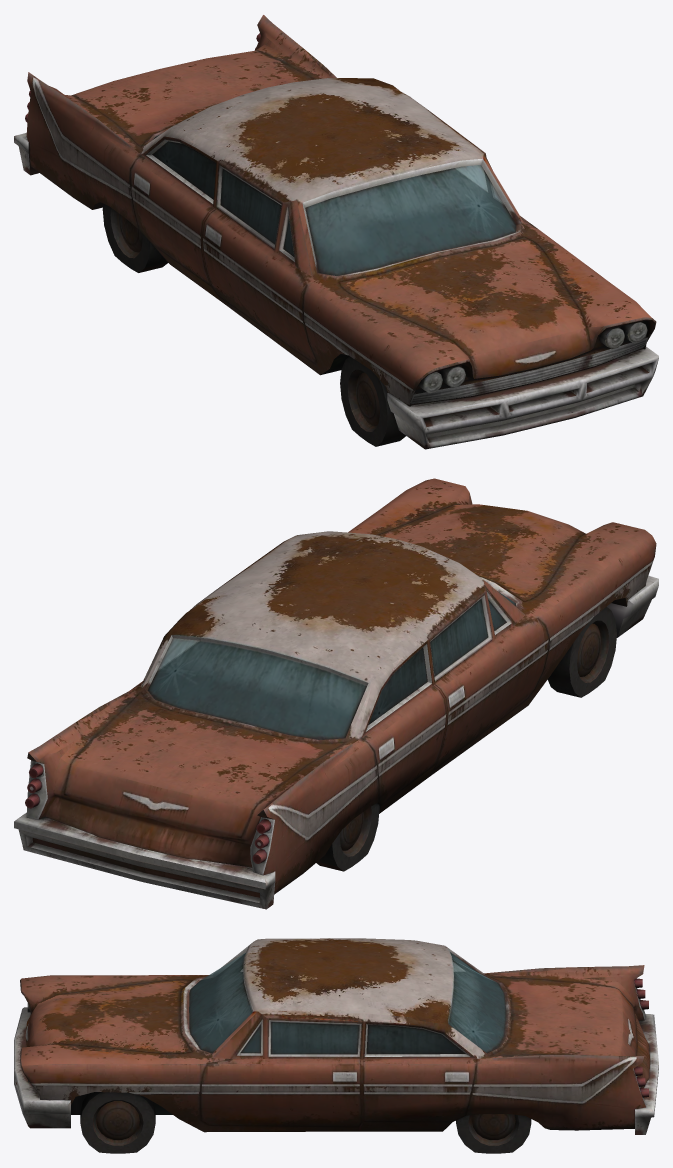
Rendered from flood-rusty-car.glb.
3 renders of one model, top to bottom at view 1: azimuth 30°, elevation 25°; view 2: azimuth 150°, elevation 25°; view 3: azimuth 270°, elevation 25°, orthographic. The views are drawn at different scales.
Visible parts, largest first — view 1: flood-rusty-car; view 2: flood-rusty-car; view 3: flood-rusty-car.
Part boxes in pixels (left/top/right/bottom): flood-rusty-car: left=14, top=15, right=658, bottom=449; flood-rusty-car: left=14, top=478, right=658, bottom=909; flood-rusty-car: left=14, top=938, right=658, bottom=1153.
Bounding box in the file's own units: 101 × 70.38 × 283.
Materials: 2 (2 with a texture image).
